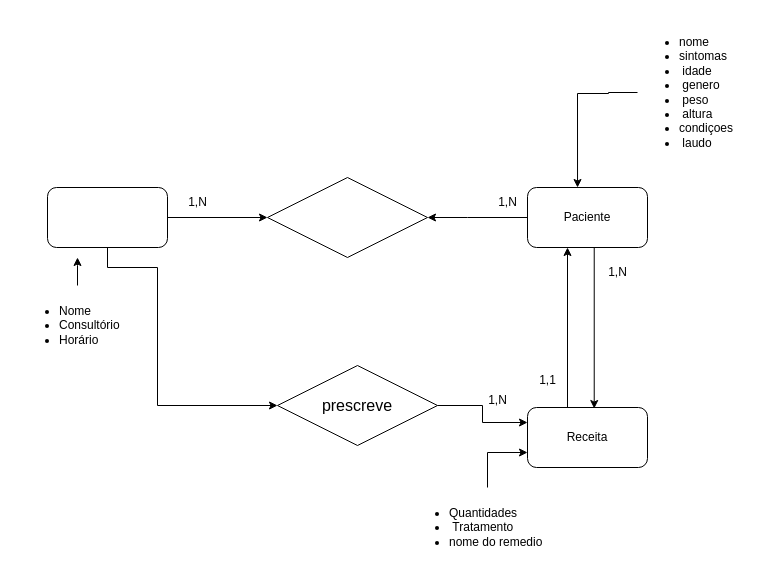
This 774x584 diagram has some shape labels left out. The centre of each missing label's shape, as x and y in pixels:
consulta: the point at 347,217
Médico: the point at 107,217
